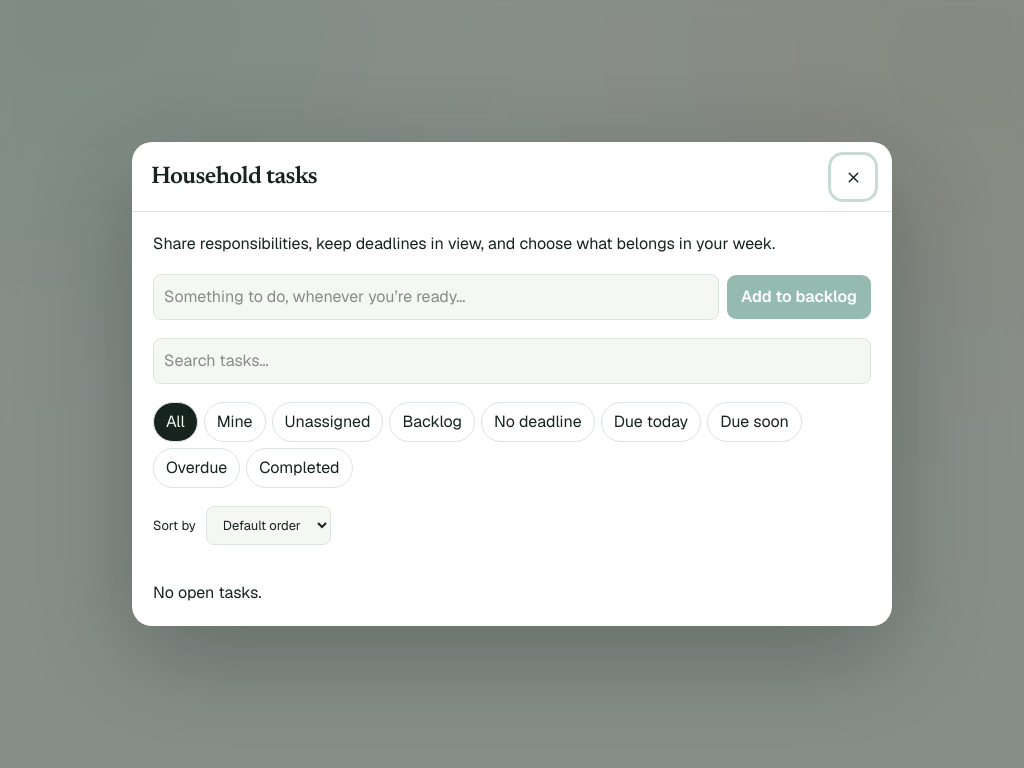
Test: task workspace search › explains an empty Due soon view
This screenshot has width=1024, height=768.
Click the button "Due soon": (754, 422) x1=707 y1=402 x2=802 y2=442
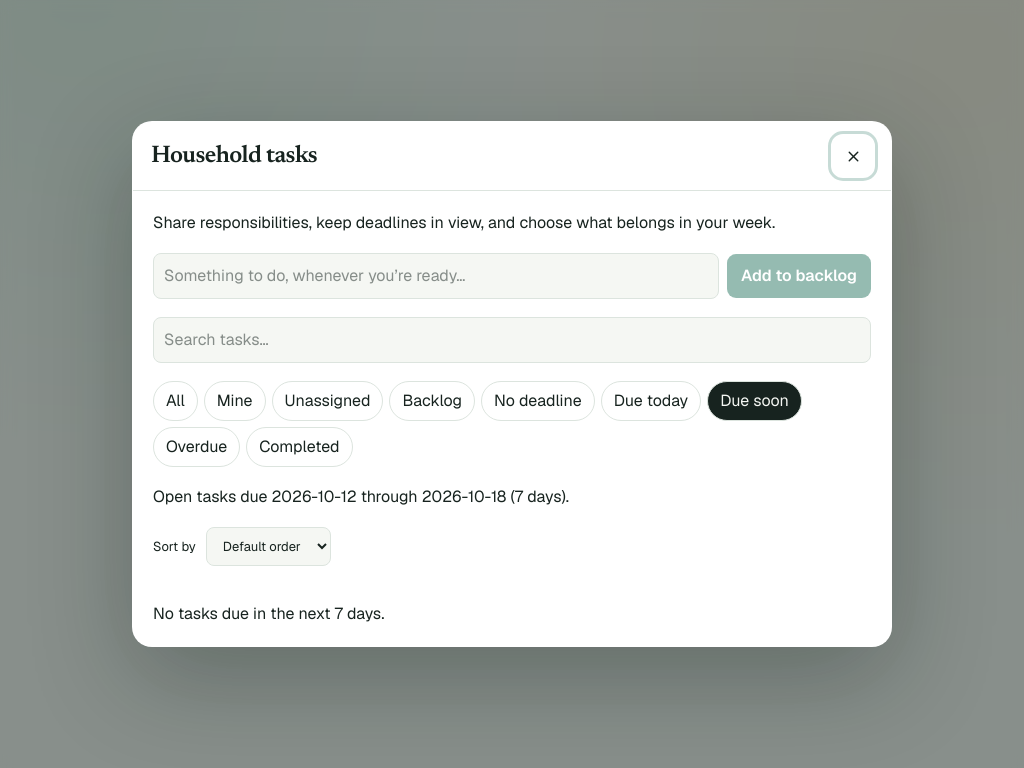
Check: the message reads "No tasks due in the next 7 days.", box x1=153 y1=603 x2=384 y2=624
